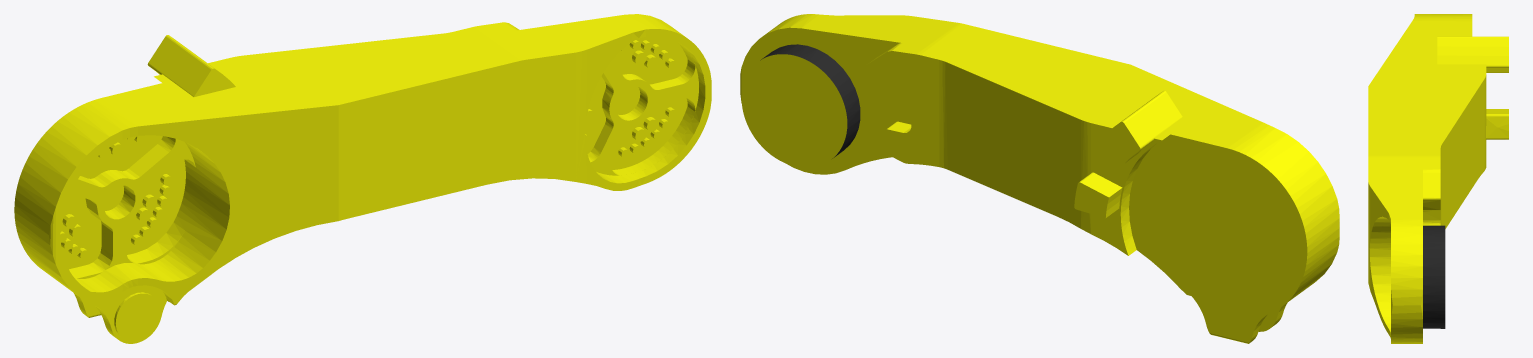
The picture shows the model from 3 angles, left to right: view 1: azimuth 30°, elevation 25°; view 2: azimuth 150°, elevation 25°; view 3: azimuth 270°, elevation 25°; orthographic projection. The views are drawn at different scales.
Visible parts, largest first — view 1: node; view 2: node; view 3: node.
Boxes of the visible parts, bbox=[...] form: node: bbox=[14, 14, 711, 343]; node: bbox=[740, 14, 1339, 343]; node: bbox=[1368, 14, 1508, 343].
Size of the model in its own units: 1431 by 515 by 370.
